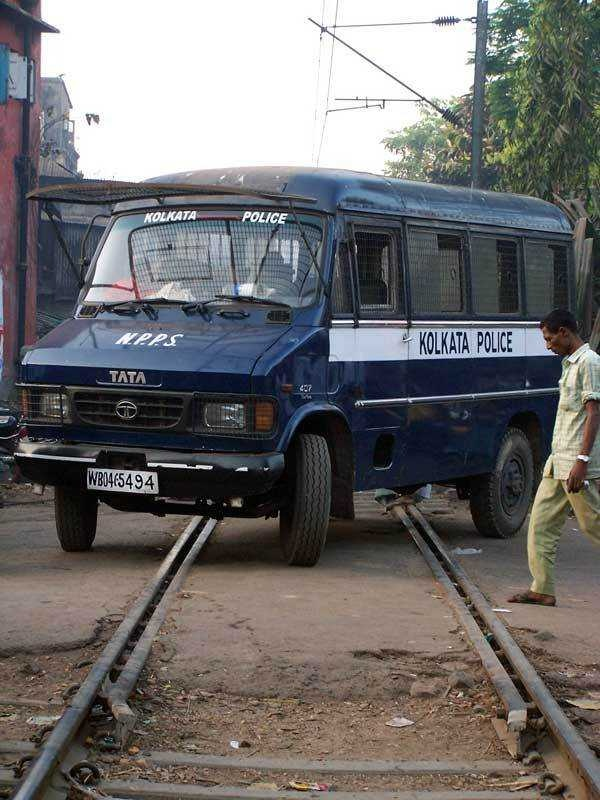Police Van: (24, 101, 567, 542)
